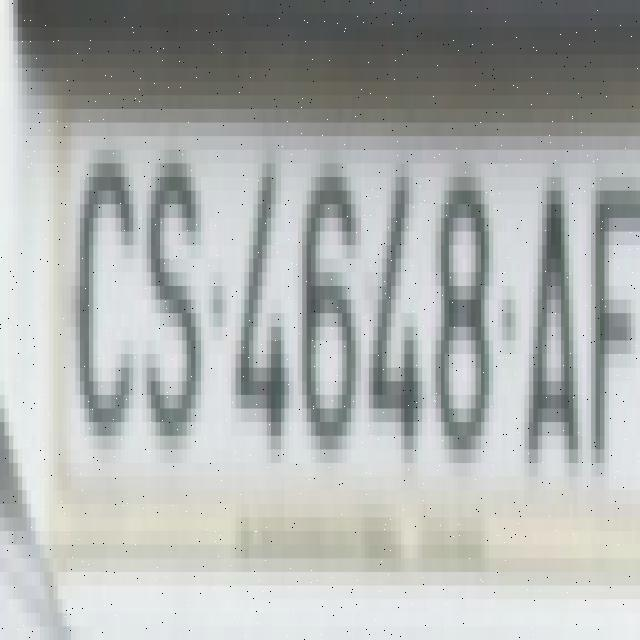LicensePlate: (49, 69, 638, 556)
